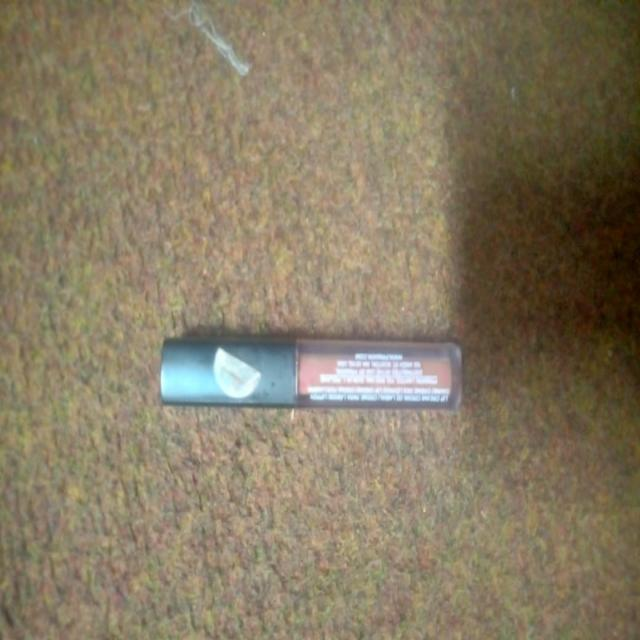lip gloss: (145, 302, 482, 459)
